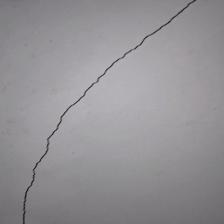Medium: (12, 31, 164, 218)
